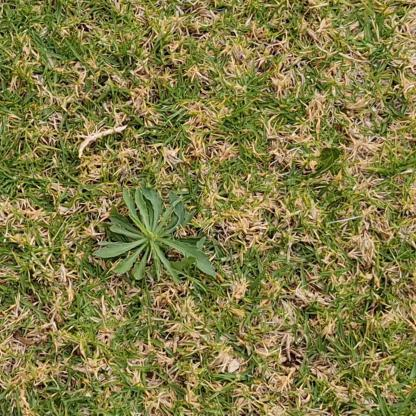Weeds: (92, 182, 217, 283)
